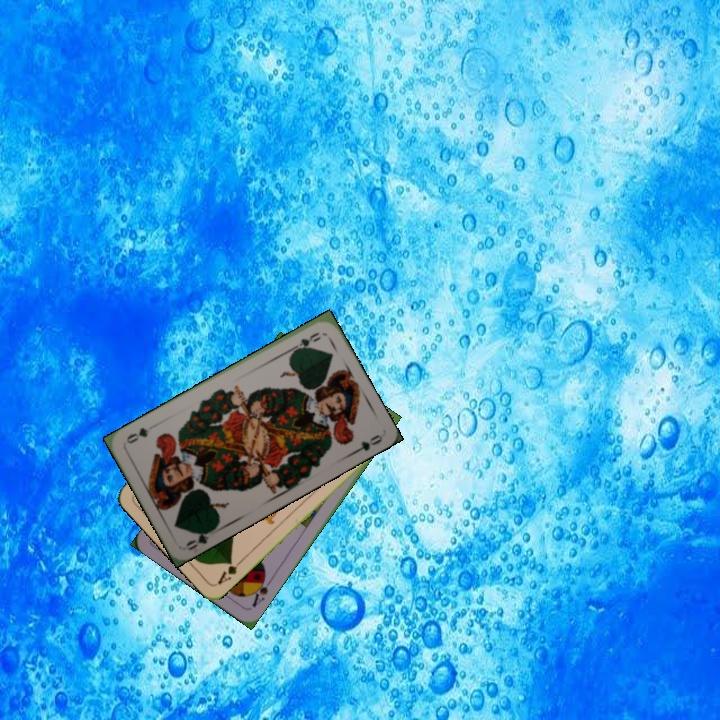GA: (213, 555, 246, 587)
GO: (182, 525, 218, 553), (287, 328, 323, 356)
SA: (246, 571, 275, 610)
